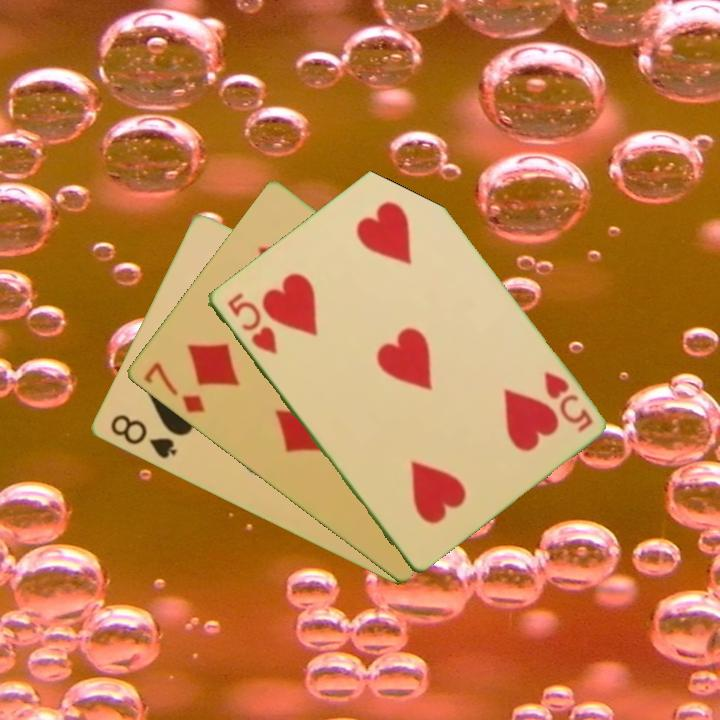5h: (223, 289, 280, 358), (539, 368, 595, 435)
7d: (139, 358, 208, 417)
8s: (106, 410, 179, 462)
